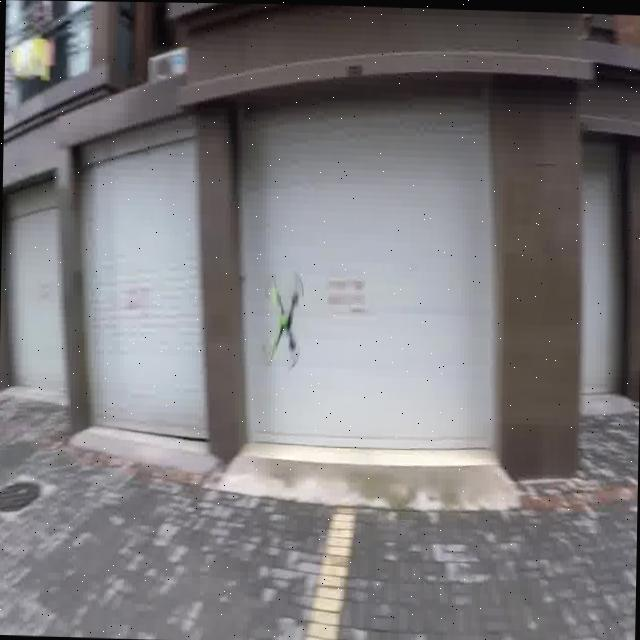drone: (252, 260, 306, 366)
